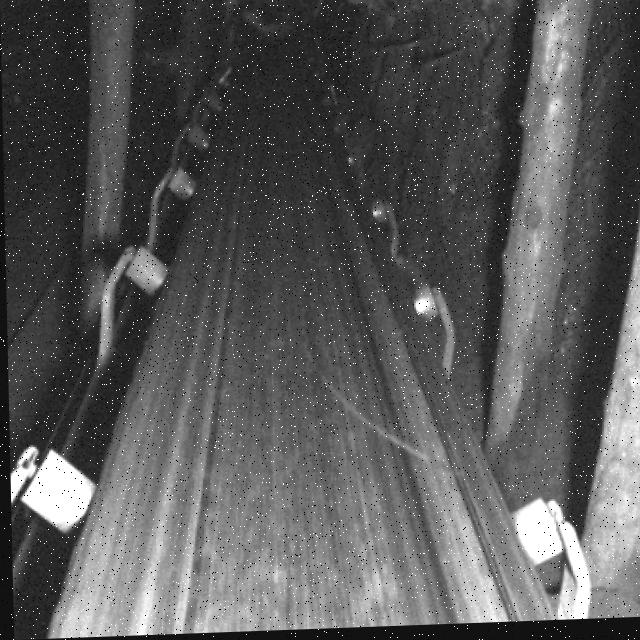bolt: (307, 366, 449, 488)
